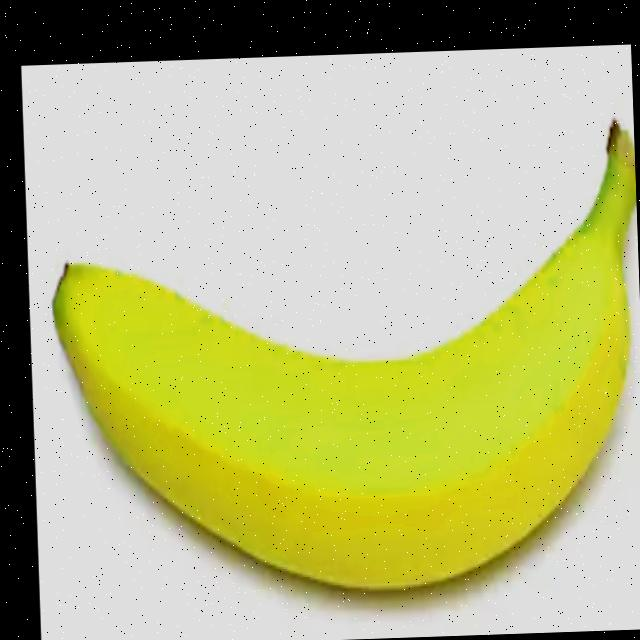Ripe: (36, 94, 640, 599)
